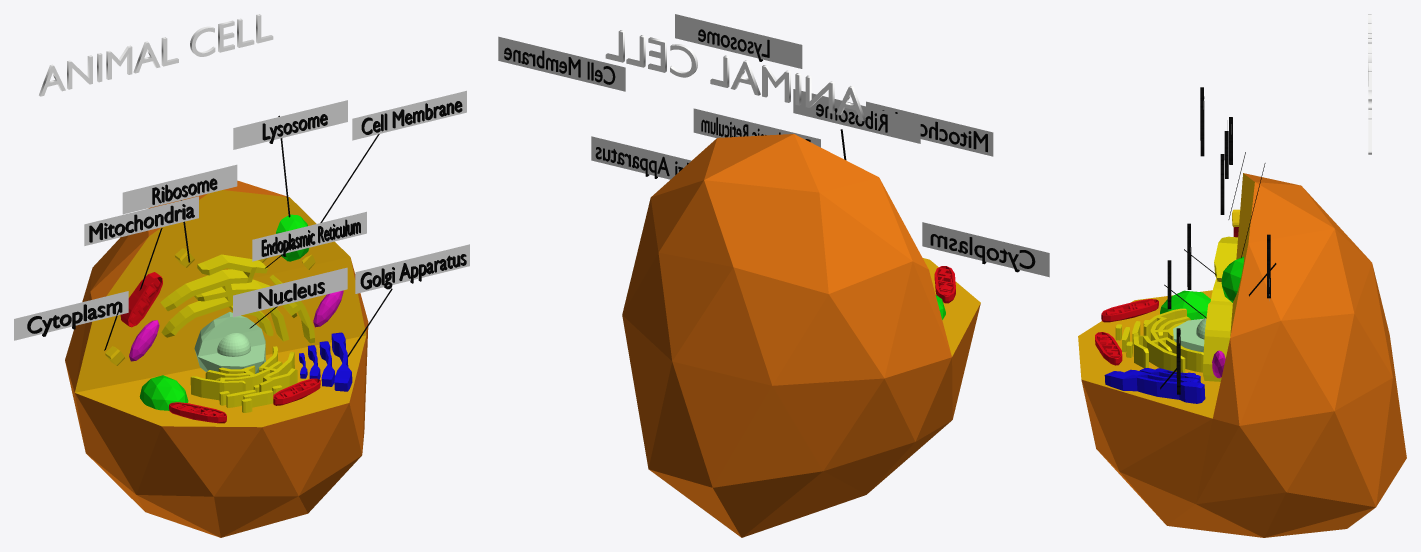
File: plantanimalcell.gltf
The picture shows the model from 3 angles, left to right: view 1: azimuth 30°, elevation 25°; view 2: azimuth 150°, elevation 25°; view 3: azimuth 270°, elevation 25°; orthographic projection. The views are drawn at different scales.
Visible parts, largest first — view 1: Icosphere, Cube.037, Icosphere.001, Text.009, Cube, Plane.008, Plane.016, Plane.019, Plane.010, Plane.012, Plane.015, Plane.017 (+18 smaller); view 2: Icosphere, Text.009, Plane.016, Plane.010, Plane.012, Plane.019, Plane.017, Plane.015, Plane.018, Text.012, Text.013, Text.017 (+1 smaller); view 3: Icosphere, Cube, Cube.037, Cube.005, Icosphere.005, Cube.002, Icosphere.001, Icosphere.008, Cube.004, Text.009, Cube.019.
Boxes of the visible parts, x1,y1,x2,y2 form: Icosphere: (65, 180, 368, 537); Cube.037: (160, 254, 314, 343); Icosphere.001: (194, 312, 265, 373); Text.009: (39, 14, 273, 96); Cube: (190, 346, 297, 400); Plane.008: (233, 267, 347, 317); Plane.016: (233, 100, 347, 149); Plane.019: (122, 164, 237, 214); Plane.010: (14, 291, 128, 340); Plane.012: (352, 90, 466, 140); Plane.015: (84, 196, 198, 245); Plane.017: (355, 244, 469, 293); Icosphere: (622, 134, 980, 537); Text.009: (605, 30, 865, 121); Plane.016: (675, 14, 802, 68); Plane.010: (922, 222, 1049, 277); Plane.012: (498, 36, 625, 91); Plane.019: (793, 89, 920, 143); Plane.017: (591, 136, 691, 179); Plane.015: (866, 101, 993, 156); Plane.018: (693, 108, 820, 147); Text.012: (504, 47, 615, 84); Text.013: (930, 234, 1035, 272); Text.017: (595, 147, 688, 178); Icosphere: (1078, 173, 1406, 537); Cube: (1133, 308, 1203, 372); Cube.037: (1203, 236, 1237, 381); Cube.005: (1104, 368, 1205, 403); Icosphere.005: (1160, 290, 1210, 319); Cube.002: (1101, 299, 1158, 322); Icosphere.001: (1173, 318, 1206, 352); Icosphere.008: (1221, 256, 1243, 302); Cube.004: (1095, 332, 1122, 365); Text.009: (1368, 14, 1371, 154); Cube.019: (1115, 320, 1149, 357).
Bounding box in the file's own units: 5.52 × 4.91 × 3.19.
